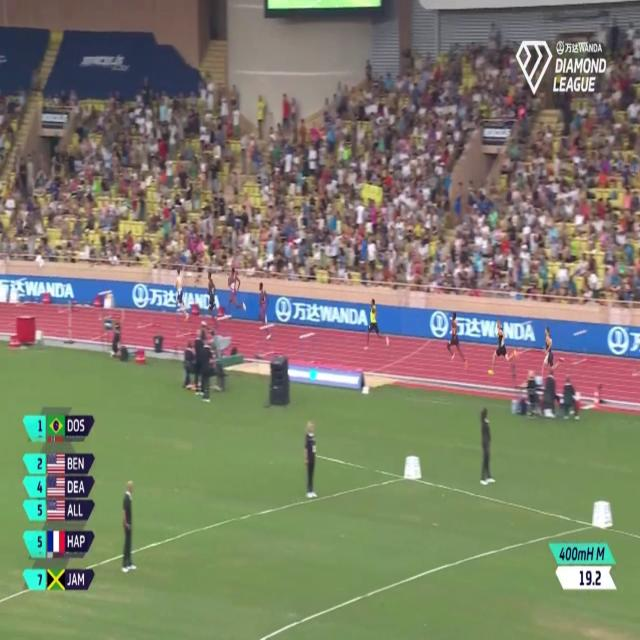athlete: (487, 315, 518, 378), (363, 291, 392, 358), (538, 319, 566, 386), (224, 259, 248, 322), (446, 307, 470, 368), (171, 263, 192, 325), (254, 278, 274, 342), (206, 264, 219, 332)
hurdle: (513, 314, 536, 358), (173, 298, 194, 345), (571, 322, 591, 371), (134, 290, 158, 327), (258, 321, 279, 358), (94, 285, 114, 323), (296, 329, 316, 365)
